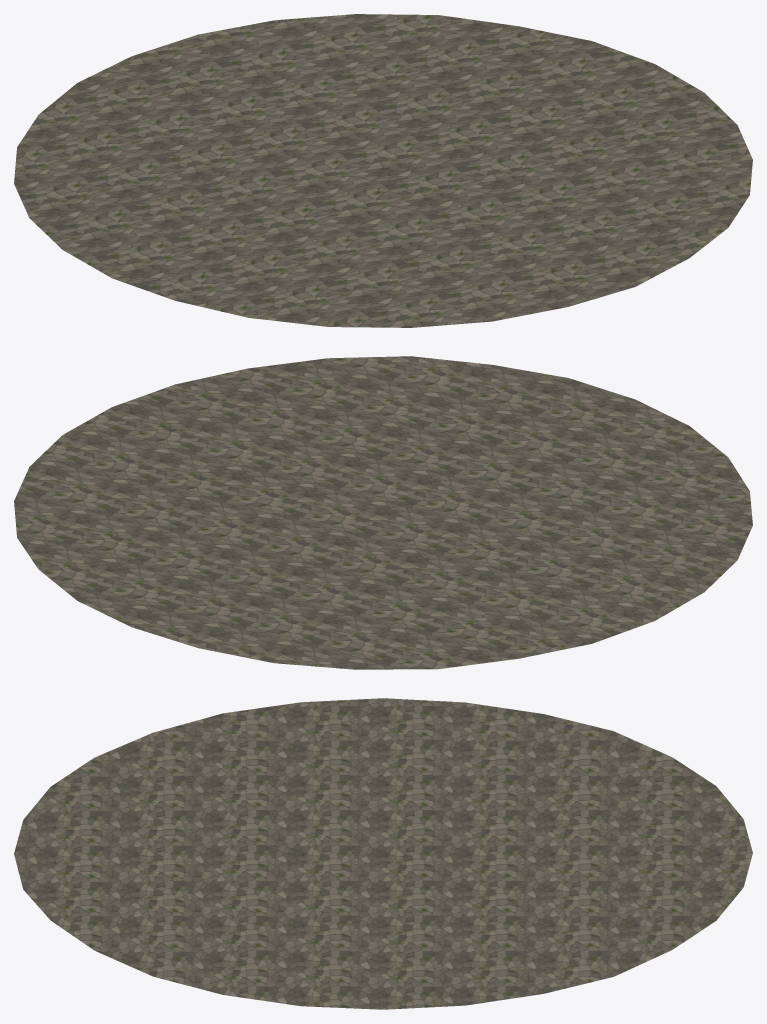
Rendered from SealDais.fbx.
3 renders of one model, top to bottom at view 1: azimuth 30°, elevation 25°; view 2: azimuth 150°, elevation 25°; view 3: azimuth 270°, elevation 25°, orthographic.
Parts seen in each view (by area): view 1: SealDais; view 2: SealDais; view 3: SealDais.
Boxes of the visible parts, x1=… form: SealDais: x1=14, y1=14, x2=752, y2=327; SealDais: x1=14, y1=356, x2=752, y2=669; SealDais: x1=14, y1=698, x2=752, y2=1009.
Size of the model in its own units: 16 by 0.0556 by 16.
